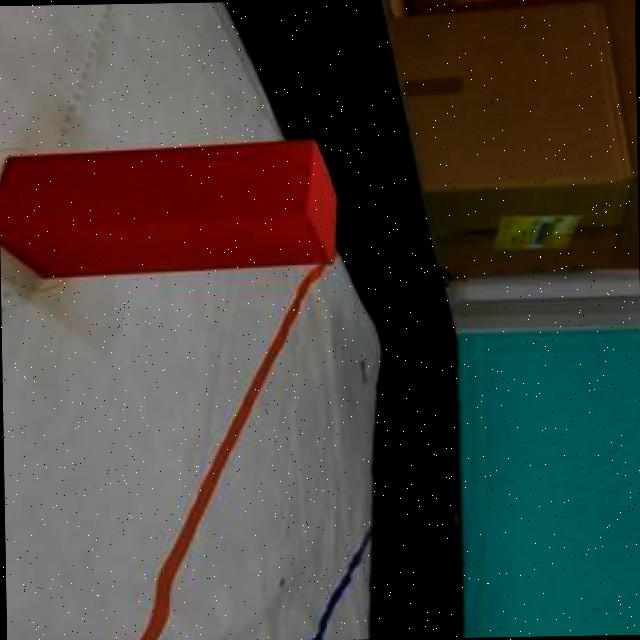redbox: (0, 132, 339, 280)
